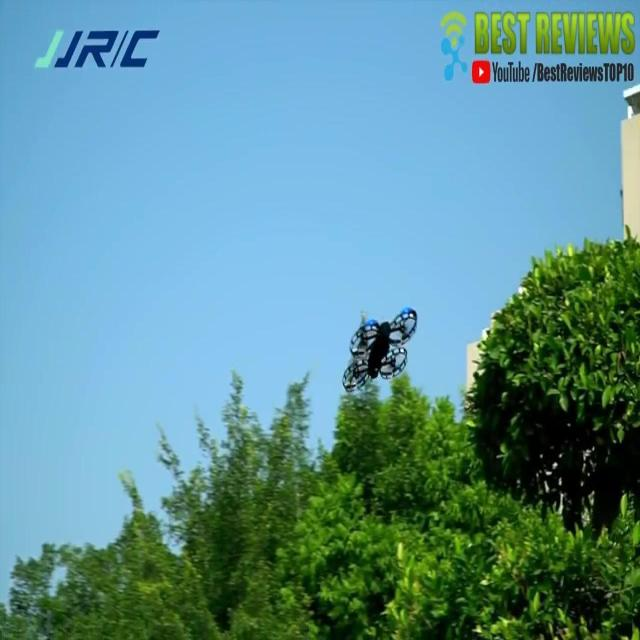drone: (340, 305, 419, 394)
